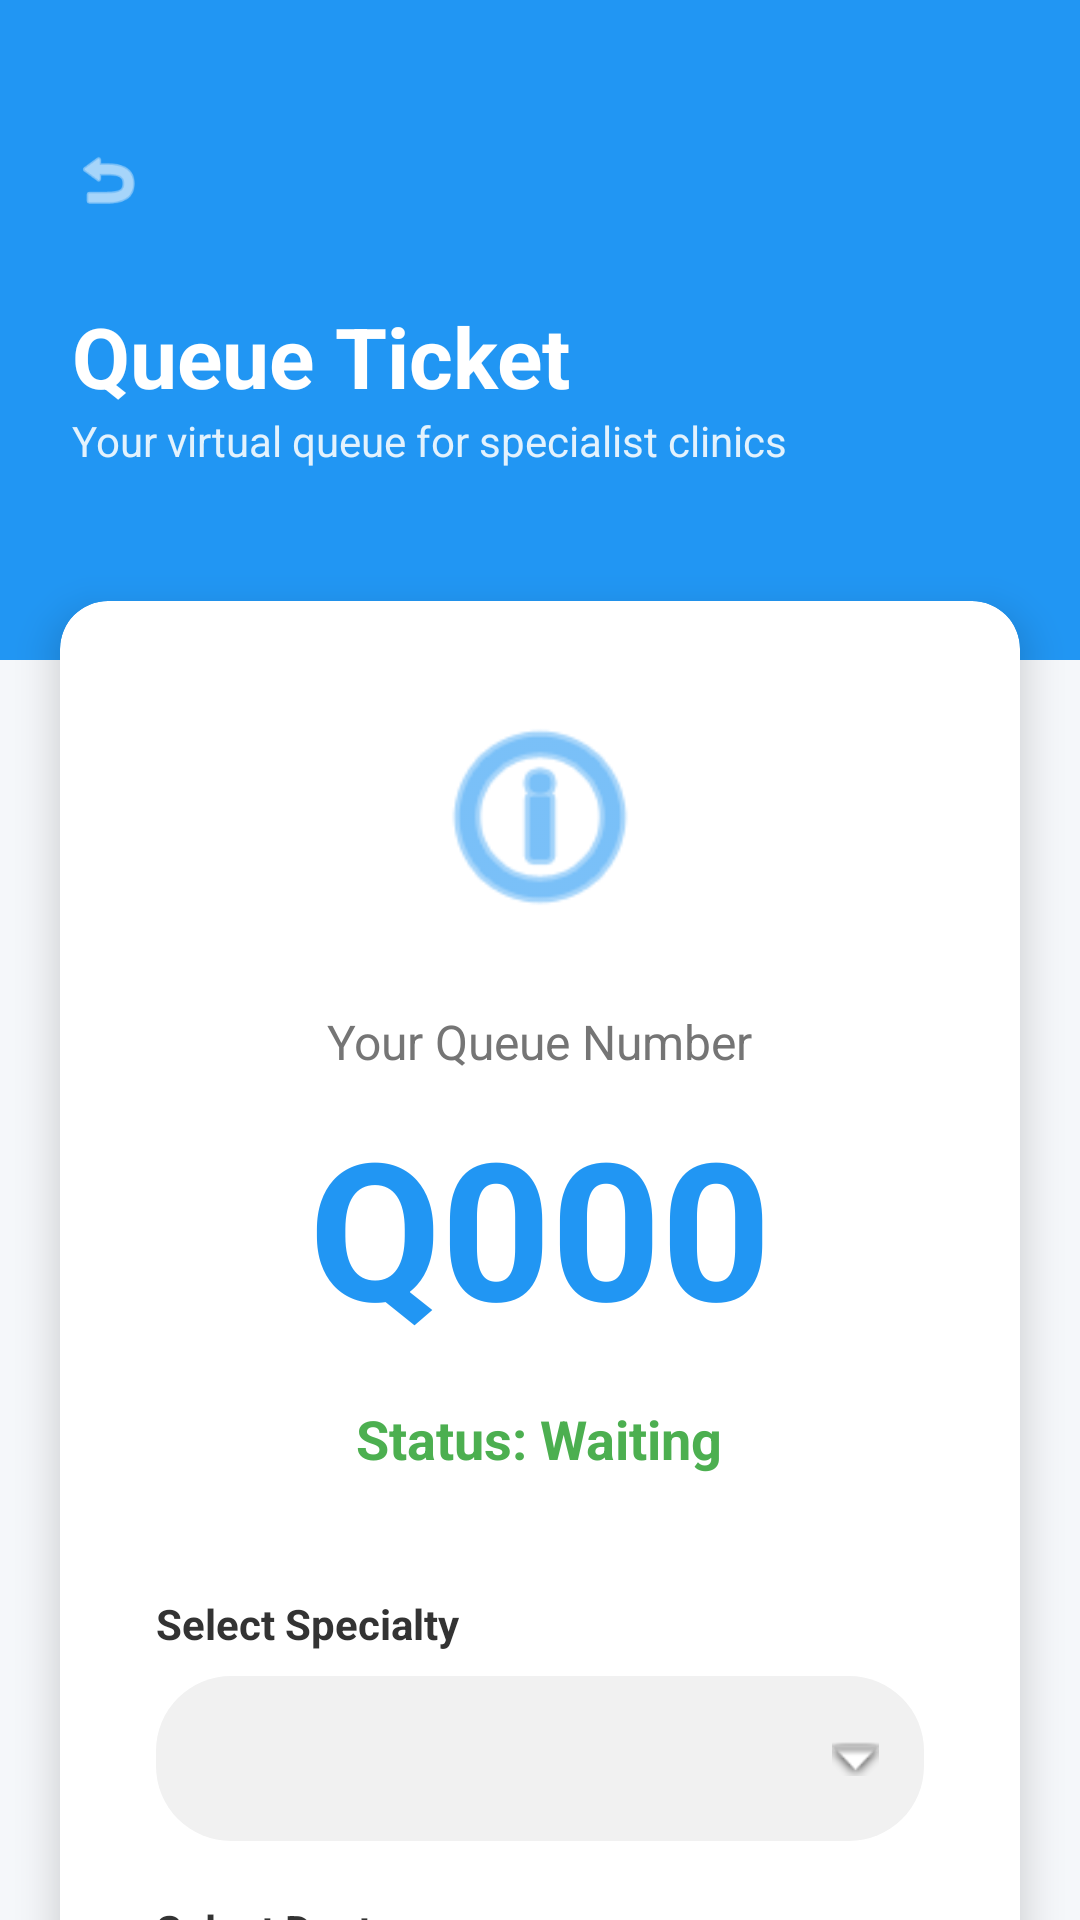

Screen size 1080*1920. Icon name, then its box in pixels as (x1, y1, x2, y2):
info details: (453, 731, 627, 904)
revert: (83, 157, 135, 204)
